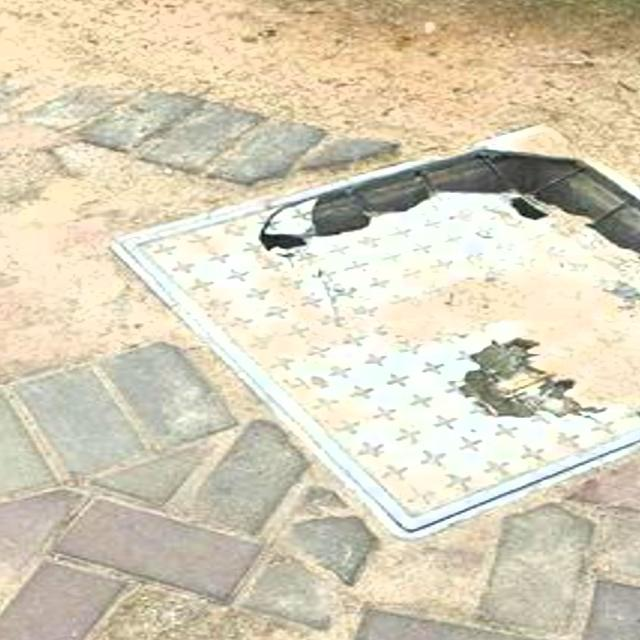broke: (97, 99, 640, 558)
